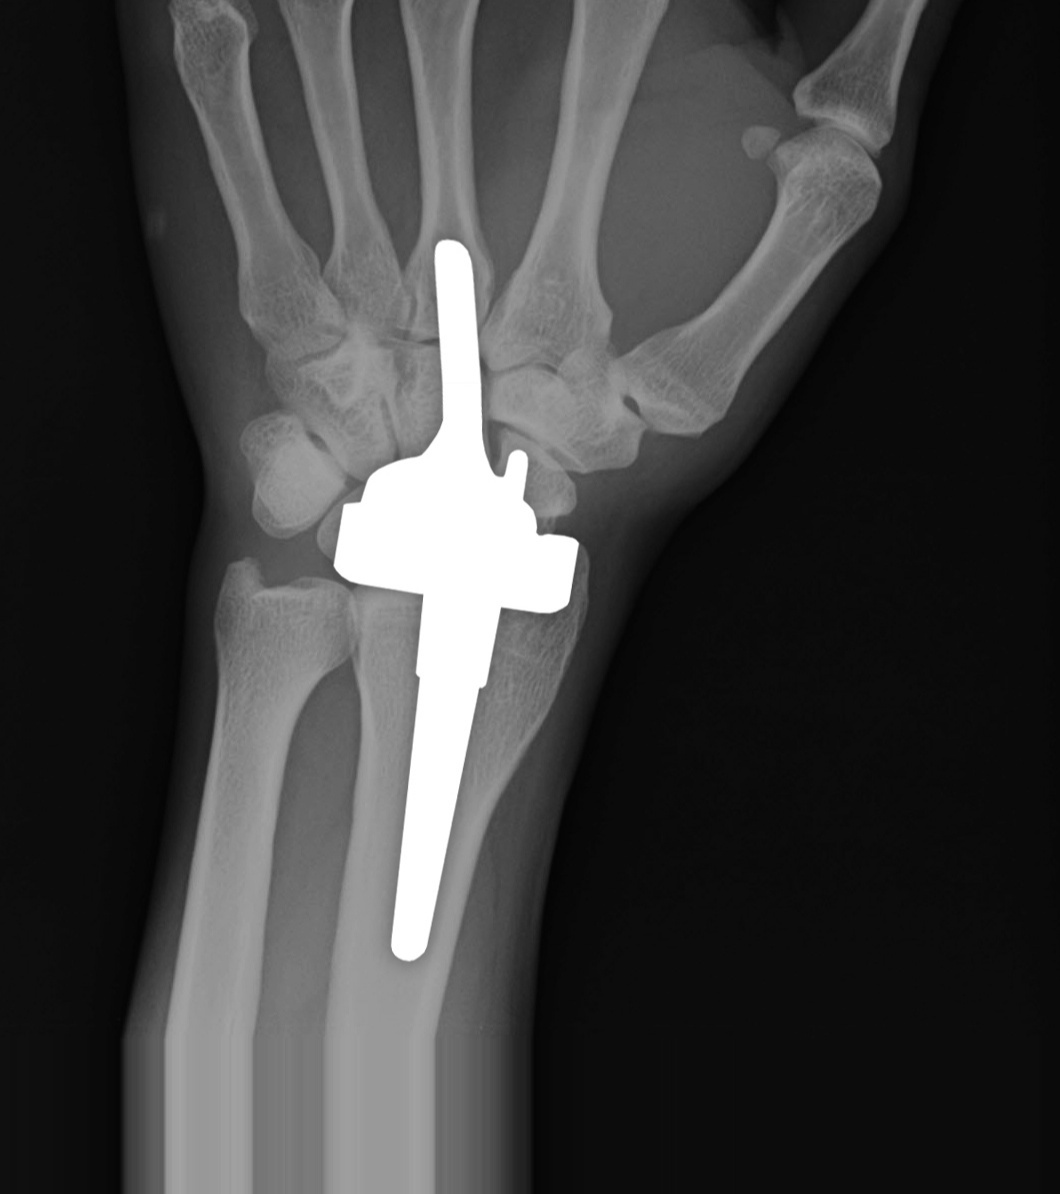Wrist-Biax-DePuuy: (297, 230, 582, 974)
